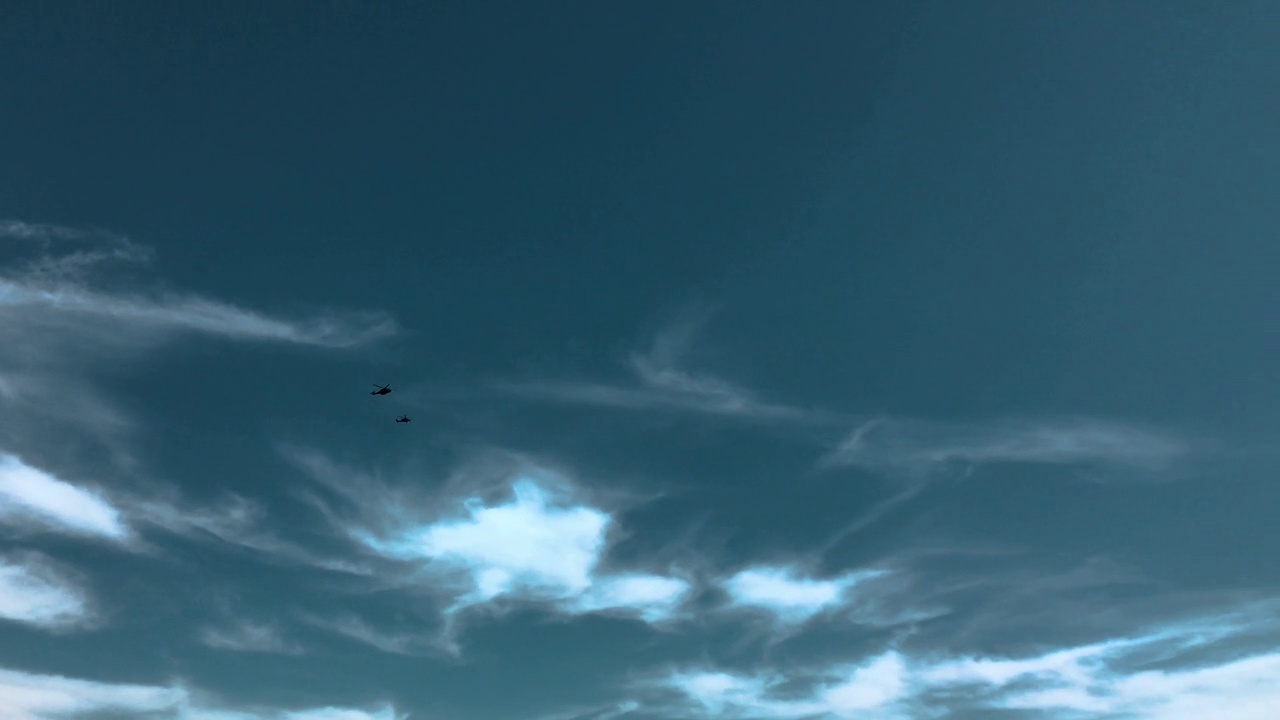heli: (369, 384, 391, 396), (395, 415, 410, 424)
